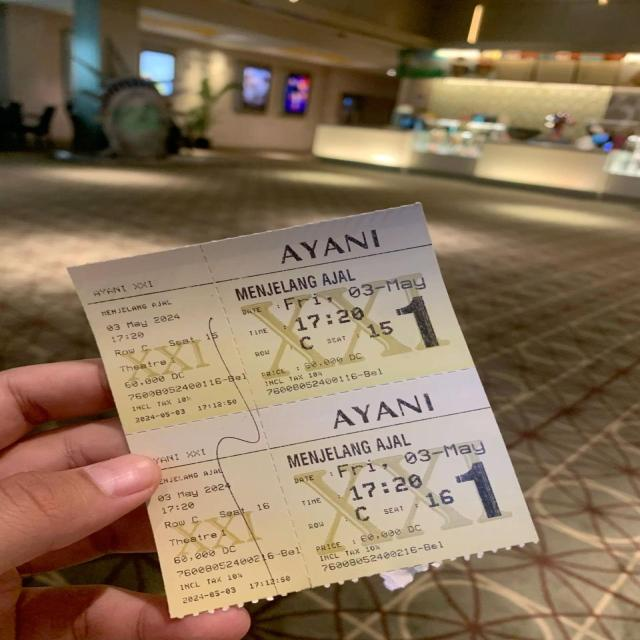date: (153, 314, 179, 323)
store: (281, 229, 380, 264)
total: (301, 352, 364, 369)
